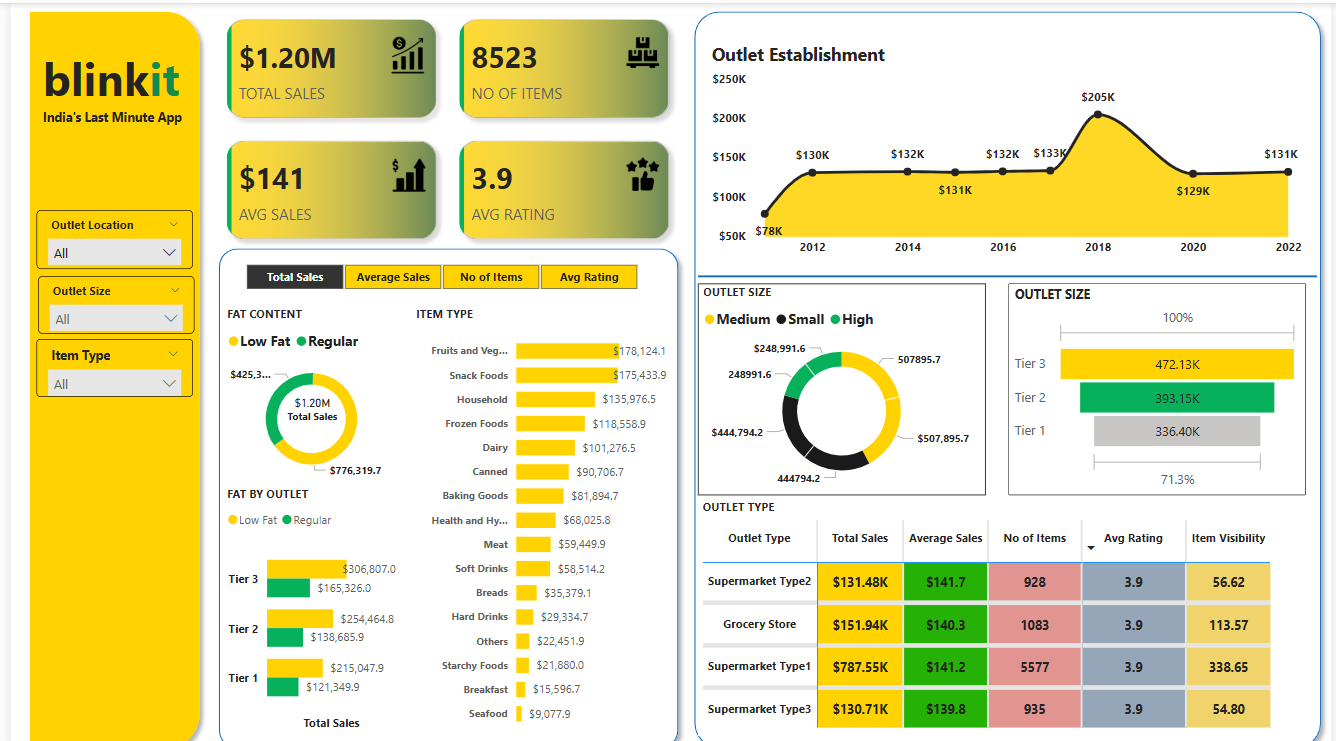

What the dashboard file says about the page in this screenshot:
{"tool":"powerbi","page":{"name":"Page 1","canvas":[1400,800],"ordinal":0},"visuals":[{"type":"shape","box":[11.3,0,198.1,800],"z":0},{"type":"textbox","box":[28.9,41.6,166.3,79.5],"z":1000},{"type":"textbox","box":[28.9,106.6,168.1,28.9],"z":2000},{"type":"cardVisual","fields":{"Data":["Sheet1.Total Sales","Sheet1.No of Items","Sheet1.Average Sales","Sheet1.Avg Rating"]},"box":[211.3,0,505.7,269.8],"z":3000},{"type":"clusteredBarChart","title":"Item Type","fields":{"Category":["Sheet1.Item Type"],"Y":["Sheet1.Total Sales"]},"box":[362.3,320.8,313.2,428.3],"z":4000},{"type":"shape","box":[211.3,250.9,505.7,549.1],"z":5000},{"type":"donutChart","title":"FAT CONTENT","fields":{"Y":["Sheet1.Total Sales"],"Category":["Sheet1.Item Fat Content"]},"box":[224.5,320.8,188.7,192.5],"z":6000},{"type":"slicer","fields":{"Values":["Metrics.Metrics"]},"box":[224.5,269.8,464.2,39.6],"z":7000},{"type":"barChart","title":"ITEM TYPE","fields":{"Y":["Sheet1.Total Sales"],"Category":["Sheet1.Item Type"]},"box":[424.5,320.8,275.5,456.6],"z":8000},{"type":"cardVisual","fields":{"Data":["Sheet1.Total Sales"]},"box":[269.8,400,98.1,52.8],"z":9000},{"type":"clusteredBarChart","title":"FAT BY OUTLET","fields":{"Y":["Sheet1.Total Sales"],"Category":["Sheet1.Outlet Location Type"],"Series":["Sheet1.Item Fat Content"]},"box":[224.5,513.2,188.7,264.2],"z":10000},{"type":"shape","box":[715.7,0,682.9,800],"z":11000},{"type":"lineChart","title":" Outlet Establishment ","fields":{"Category":["Sheet1.Outlet Establishment Year"],"Y":["Sheet1.Total Sales"]},"box":[737.7,41.5,635.8,235.8],"z":12000},{"type":"shape","box":[728.3,281.1,656.6,17],"z":13000},{"type":"donutChart","title":"OUTLET SIZE","fields":{"Y":["Sum(Sheet1.Sales)","Sheet1.Total Sales"],"Category":["Sheet1.Outlet Size"]},"box":[728.3,298.1,305.7,224.5],"z":14000},{"type":"funnel","title":"OUTLET SIZE","fields":{"Y":["Sum(Sheet1.Sales)"],"Category":["Sheet1.Outlet Location Type"]},"box":[1058.5,298.1,315.1,224.5],"z":15000},{"type":"pivotTable","title":"OUTLET TYPE","fields":{"Rows":["Sheet1.Outlet Type"],"Values":["Sheet1.Total Sales","Sheet1.Average Sales","Sheet1.No of Items","Sheet1.Avg Rating","Sum(Sheet1.Item Visibility)"]},"box":[728.3,526.4,622.6,250.9],"z":16000},{"type":"slicer","fields":{"Values":["Sheet1.Outlet Location Type"]},"box":[27.1,220,165.7,62.9],"z":17000},{"type":"slicer","fields":{"Values":["Sheet1.Outlet Size"]},"box":[28.6,290,165.7,61.4],"z":18000},{"type":"slicer","fields":{"Values":["Sheet1.Item Type"]},"box":[27.1,355.7,165.7,61.4],"z":19000}]}

Visuals, with their boxes on the page's 1400x800 design canvas (x1, y1, x2, y2). These are canvas units, not pixel positions in the 1336x741 screenshot, which may show the page scaled, cropped or inside an application window:
shape: box(11, 0, 209, 800)
textbox: box(29, 42, 195, 121)
textbox: box(29, 107, 197, 136)
cardVisual - Sheet1.Total Sales x Sheet1.No of Items: box(211, 0, 717, 270)
"Item Type" clusteredBarChart: box(362, 321, 676, 749)
shape: box(211, 251, 717, 800)
"FAT CONTENT" donutChart: box(224, 321, 413, 513)
slicer - Metrics.Metrics: box(224, 270, 689, 309)
"ITEM TYPE" barChart: box(424, 321, 700, 777)
cardVisual - Sheet1.Total Sales: box(270, 400, 368, 453)
"FAT BY OUTLET" clusteredBarChart: box(224, 513, 413, 777)
shape: box(716, 0, 1399, 800)
" Outlet Establishment " lineChart: box(738, 42, 1374, 277)
shape: box(728, 281, 1385, 298)
"OUTLET SIZE" donutChart: box(728, 298, 1034, 523)
"OUTLET SIZE" funnel: box(1058, 298, 1374, 523)
"OUTLET TYPE" pivotTable: box(728, 526, 1351, 777)
slicer - Sheet1.Outlet Location Type: box(27, 220, 193, 283)
slicer - Sheet1.Outlet Size: box(29, 290, 194, 351)
slicer - Sheet1.Item Type: box(27, 356, 193, 417)
